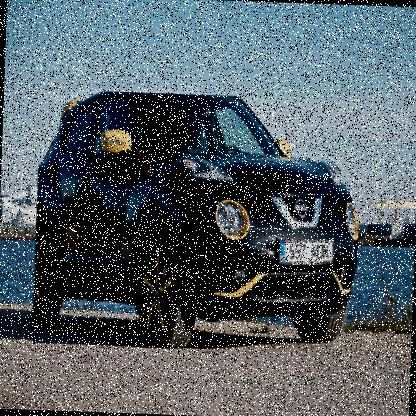Car: (32, 90, 363, 356)
